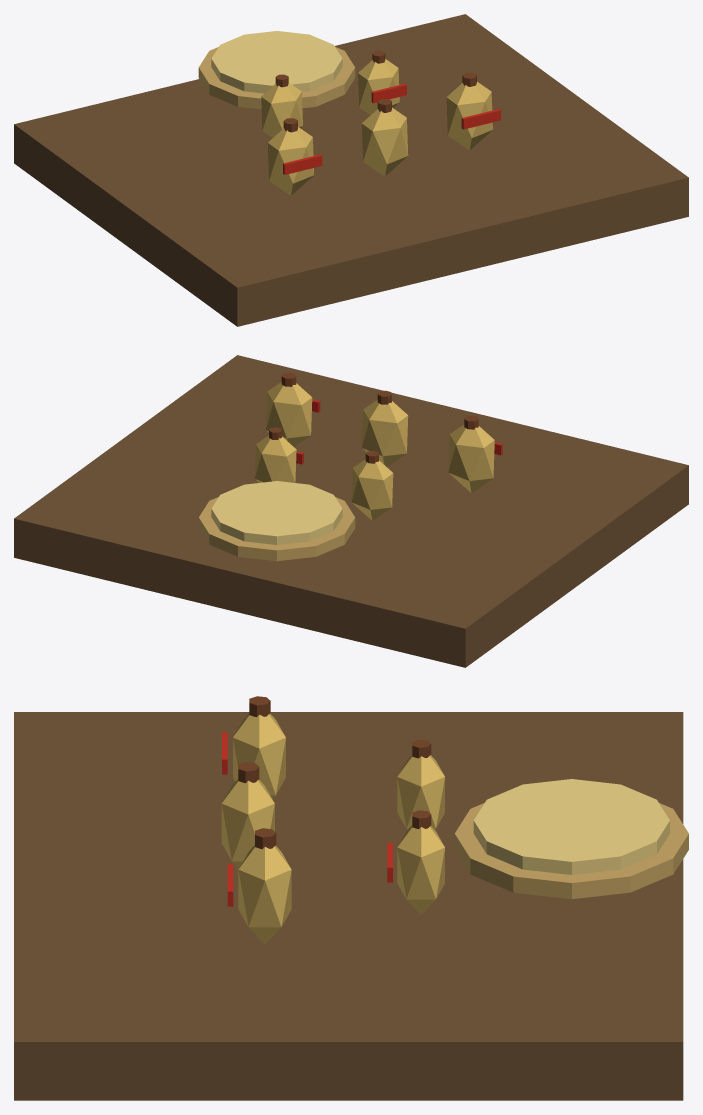
Rendered from rice_sacks.glb.
3 renders of one model, top to bottom at view 1: azimuth 30°, elevation 25°; view 2: azimuth 150°, elevation 25°; view 3: azimuth 270°, elevation 25°, orthographic. The views are drawn at different scales.
Parts seen in each view (by area): view 1: TerrainBase, RicePile, OpenRiceTray, RiceSack.001, RiceSack.002, RiceSack, RiceSack.003, RiceSack.004, SackStripe, SackStripe.001; view 2: TerrainBase, RicePile, OpenRiceTray, RiceSack, RiceSack.001, RiceSack.002, RiceSack.003, RiceSack.004; view 3: TerrainBase, RicePile, OpenRiceTray, RiceSack.002, RiceSack.004, RiceSack.001, RiceSack, RiceSack.003.
Boxes of the visible parts, <box> form: TerrainBase: <box>14,14,688,326</box>; RicePile: <box>211,31,342,93</box>; OpenRiceTray: <box>198,47,355,109</box>; RiceSack.001: <box>361,107,408,175</box>; RiceSack.002: <box>446,81,492,149</box>; RiceSack: <box>267,127,314,195</box>; RiceSack.003: <box>261,82,302,137</box>; RiceSack.004: <box>358,59,399,115</box>; SackStripe: <box>283,154,322,174</box>; SackStripe.001: <box>461,109,500,129</box>; TerrainBase: <box>14,355,688,667</box>; RicePile: <box>211,481,342,544</box>; OpenRiceTray: <box>198,497,355,561</box>; RiceSack: <box>448,424,494,492</box>; RiceSack.001: <box>361,400,408,466</box>; RiceSack.002: <box>266,382,312,446</box>; RiceSack.003: <box>351,459,393,520</box>; RiceSack.004: <box>254,435,296,482</box>; TerrainBase: <box>14,712,683,1100</box>; RicePile: <box>473,779,669,874</box>; OpenRiceTray: <box>454,803,688,899</box>; RiceSack.002: <box>238,845,291,943</box>; RiceSack.004: <box>397,825,444,914</box>; RiceSack.001: <box>221,779,274,868</box>; RiceSack: <box>233,713,285,798</box>; RiceSack.003: <box>397,754,444,829</box>.
Bounding box in the file's own units: 7 × 1.67 × 6.05.
